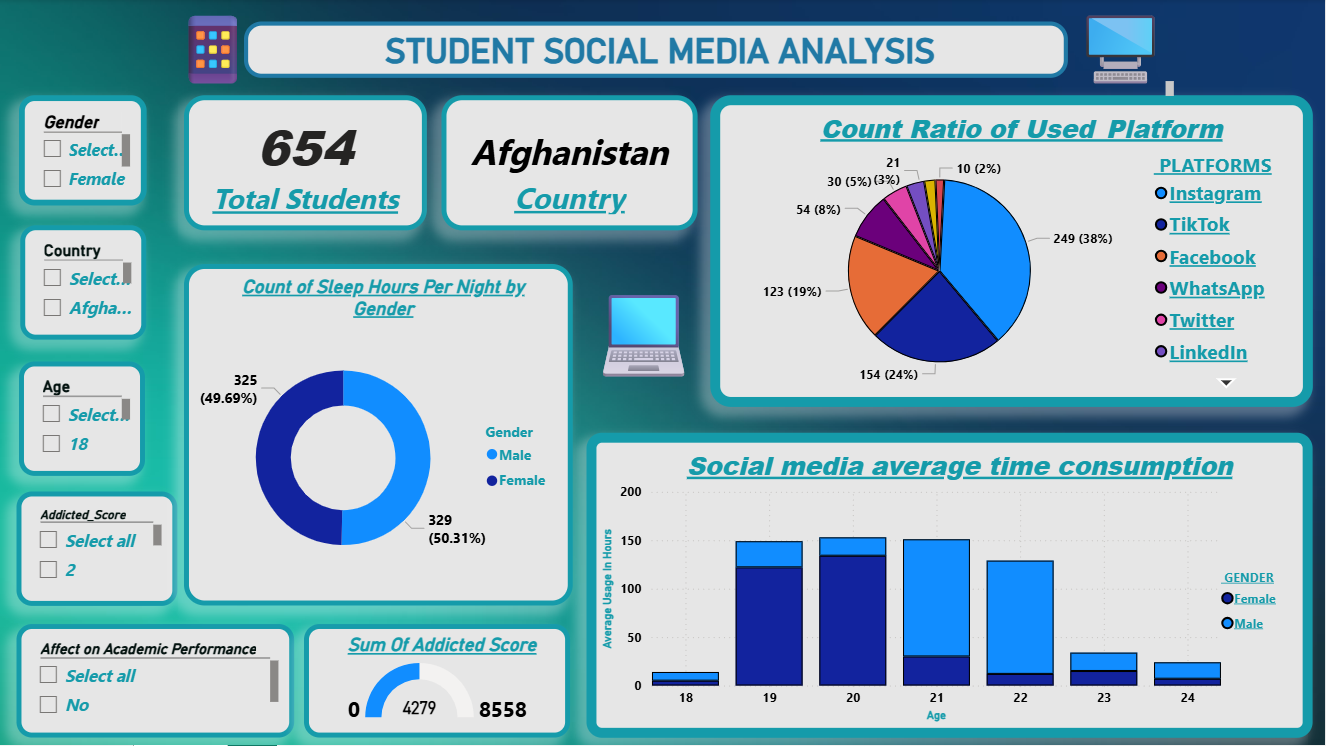

This screenshot's page, from the dashboard's own definition file:
{"tool":"powerbi","page":{"name":"Page 1","canvas":[1280,720],"ordinal":0},"visuals":[{"type":"pieChart","title":"Count Ratio of Used_Platform","fields":{"Y":["CountNonNull(Students Social Media Addiction.Most_Used_Platform)"],"Category":["Students Social Media Addiction.Most_Used_Platform"]},"box":[686.5,92.9,581.5,300.4],"z":0},{"type":"slicer","fields":{"Values":["Students Social Media Addiction.Gender"]},"box":[19.3,92.9,123.1,106.2],"z":1000},{"type":"slicer","fields":{"Values":["Students Social Media Addiction.Country"]},"box":[20.3,218.8,121.7,110.1],"z":2000},{"type":"slicer","fields":{"Values":["Students Social Media Addiction.Age"]},"box":[18.8,349.3,121.7,110.1],"z":3000},{"type":"slicer","fields":{"Values":["Students Social Media Addiction.Affects_Academic_Performance"]},"box":[16.9,603.2,267.8,109.8],"z":4000},{"type":"slicer","fields":{"Values":["Students Social Media Addiction.Addicted_Score"]},"box":[17.4,475.4,155.1,110.1],"z":5000},{"type":"columnChart","title":"Social media average time consumption","fields":{"Category":["Students Social Media Addiction.Age"],"Y":["CountNonNull(Students Social Media Addiction.Avg_Daily_Usage_Hours.1)"],"Series":["Students Social Media Addiction.Gender"]},"box":[567,418.6,700.9,294.4],"z":6000},{"type":"gauge","title":"Sum Of Addicted Score","fields":{"Y":["Sum(Students Social Media Addiction.Addicted_Score)"]},"box":[294.4,603.2,257,109.8],"z":7000},{"type":"card","fields":{"Values":["Students Social Media Addiction.total students"]},"box":[178.6,92.9,234,130.3],"z":8000},{"type":"card","fields":{"Values":["Min(Students Social Media Addiction.Country)"]},"box":[427.1,92.9,247.3,130.3],"z":9000},{"type":"donutChart","fields":{"Category":["Students Social Media Addiction.Gender"],"Y":["CountNonNull(Students Social Media Addiction.Sleep_Hours_Per_Night.1)"]},"box":[178.6,255.8,375.2,329.4],"z":10000},{"type":"textbox","title":"Country","box":[492.2,172.5,118.2,35],"z":11000},{"type":"textbox","title":"💻","box":[562.2,266.6,124.3,123.1],"z":12000},{"type":"textbox","title":"📱","box":[155.6,0,102.5,109.8],"z":13000},{"type":"textbox","title":"🖥️","box":[1031.5,0,107.4,98.9],"z":14000},{"type":"textbox","title":"STUDENT SOCIAL MEDIA ANALYSIS","box":[236.5,21.7,795,54.3],"z":15000}]}

Visuals, with their boxes in screenshot pixels (x1, y1, x2, y2), scaled from the page's 1280x720 canvas onto the 1326x746 screenshot:
"Count Ratio of Used_Platform" pieChart: 711:96:1314:408
slicer - Students Social Media Addiction.Gender: 20:96:148:206
slicer - Students Social Media Addiction.Country: 21:227:147:341
slicer - Students Social Media Addiction.Age: 19:362:146:476
slicer - Students Social Media Addiction.Affects_Academic_Performance: 18:625:295:739
slicer - Students Social Media Addiction.Addicted_Score: 18:493:179:607
"Social media average time consumption" columnChart: 587:434:1313:739
"Sum Of Addicted Score" gauge: 305:625:571:739
card - Students Social Media Addiction.total students: 185:96:427:231
card - Min(Students Social Media Addiction.Country): 442:96:699:231
donutChart - Students Social Media Addiction.Gender x CountNonNull(Students Social Media Addiction.Sleep_Hours_Per_Night.1): 185:265:574:606
"Country" textbox: 510:179:632:215
"💻" textbox: 582:276:711:404
"📱" textbox: 161:0:267:114
"🖥️" textbox: 1069:0:1180:102
"STUDENT SOCIAL MEDIA ANALYSIS" textbox: 245:22:1069:79
